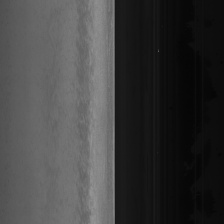silk_spot: (74, 74, 97, 137)
